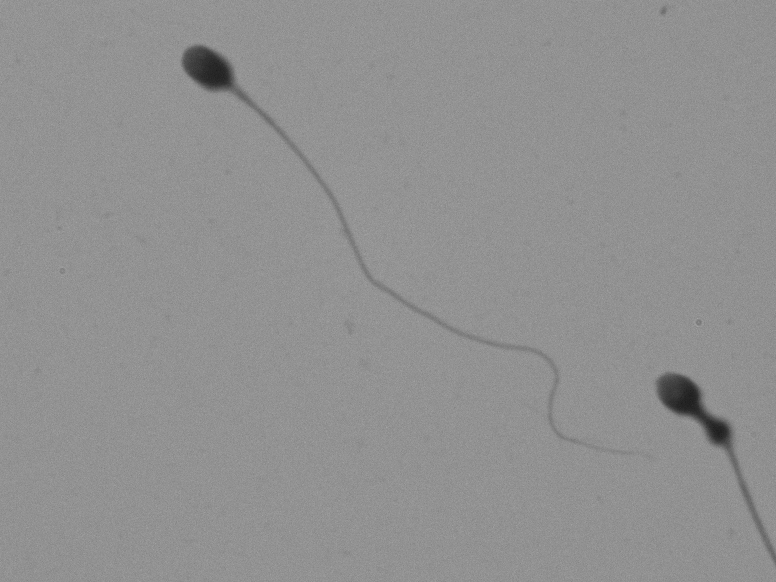Abnormal: (619, 271, 752, 536)
Normal: (153, 22, 643, 481)
